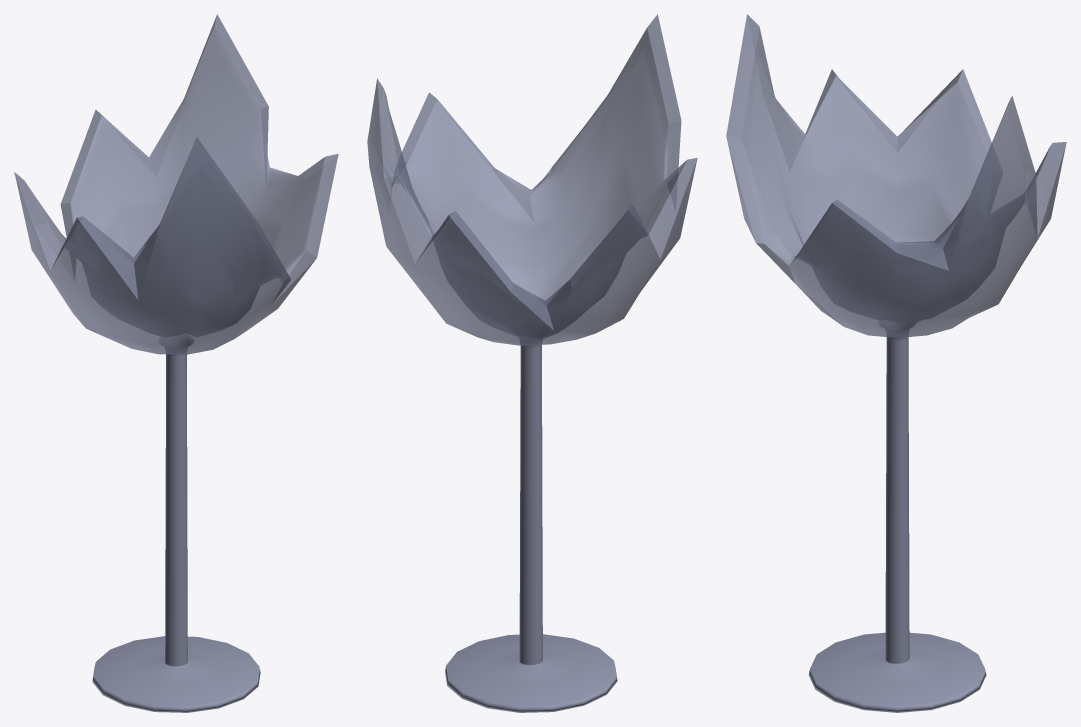
Rendered from wineGlassBroken.fbx.
The picture shows the model from 3 angles, left to right: view 1: azimuth 30°, elevation 25°; view 2: azimuth 150°, elevation 25°; view 3: azimuth 270°, elevation 25°; orthographic projection. The views are drawn at different scales.
Visible parts, largest first — view 1: pCylinder5; view 2: pCylinder5; view 3: pCylinder5.
Part boxes in pixels (<box>): pCylinder5: <box>14,14,338,712</box>; pCylinder5: <box>367,14,697,712</box>; pCylinder5: <box>726,14,1066,712</box>.
Size of the model in its own units: 12.33 by 27.17 by 13.2.
